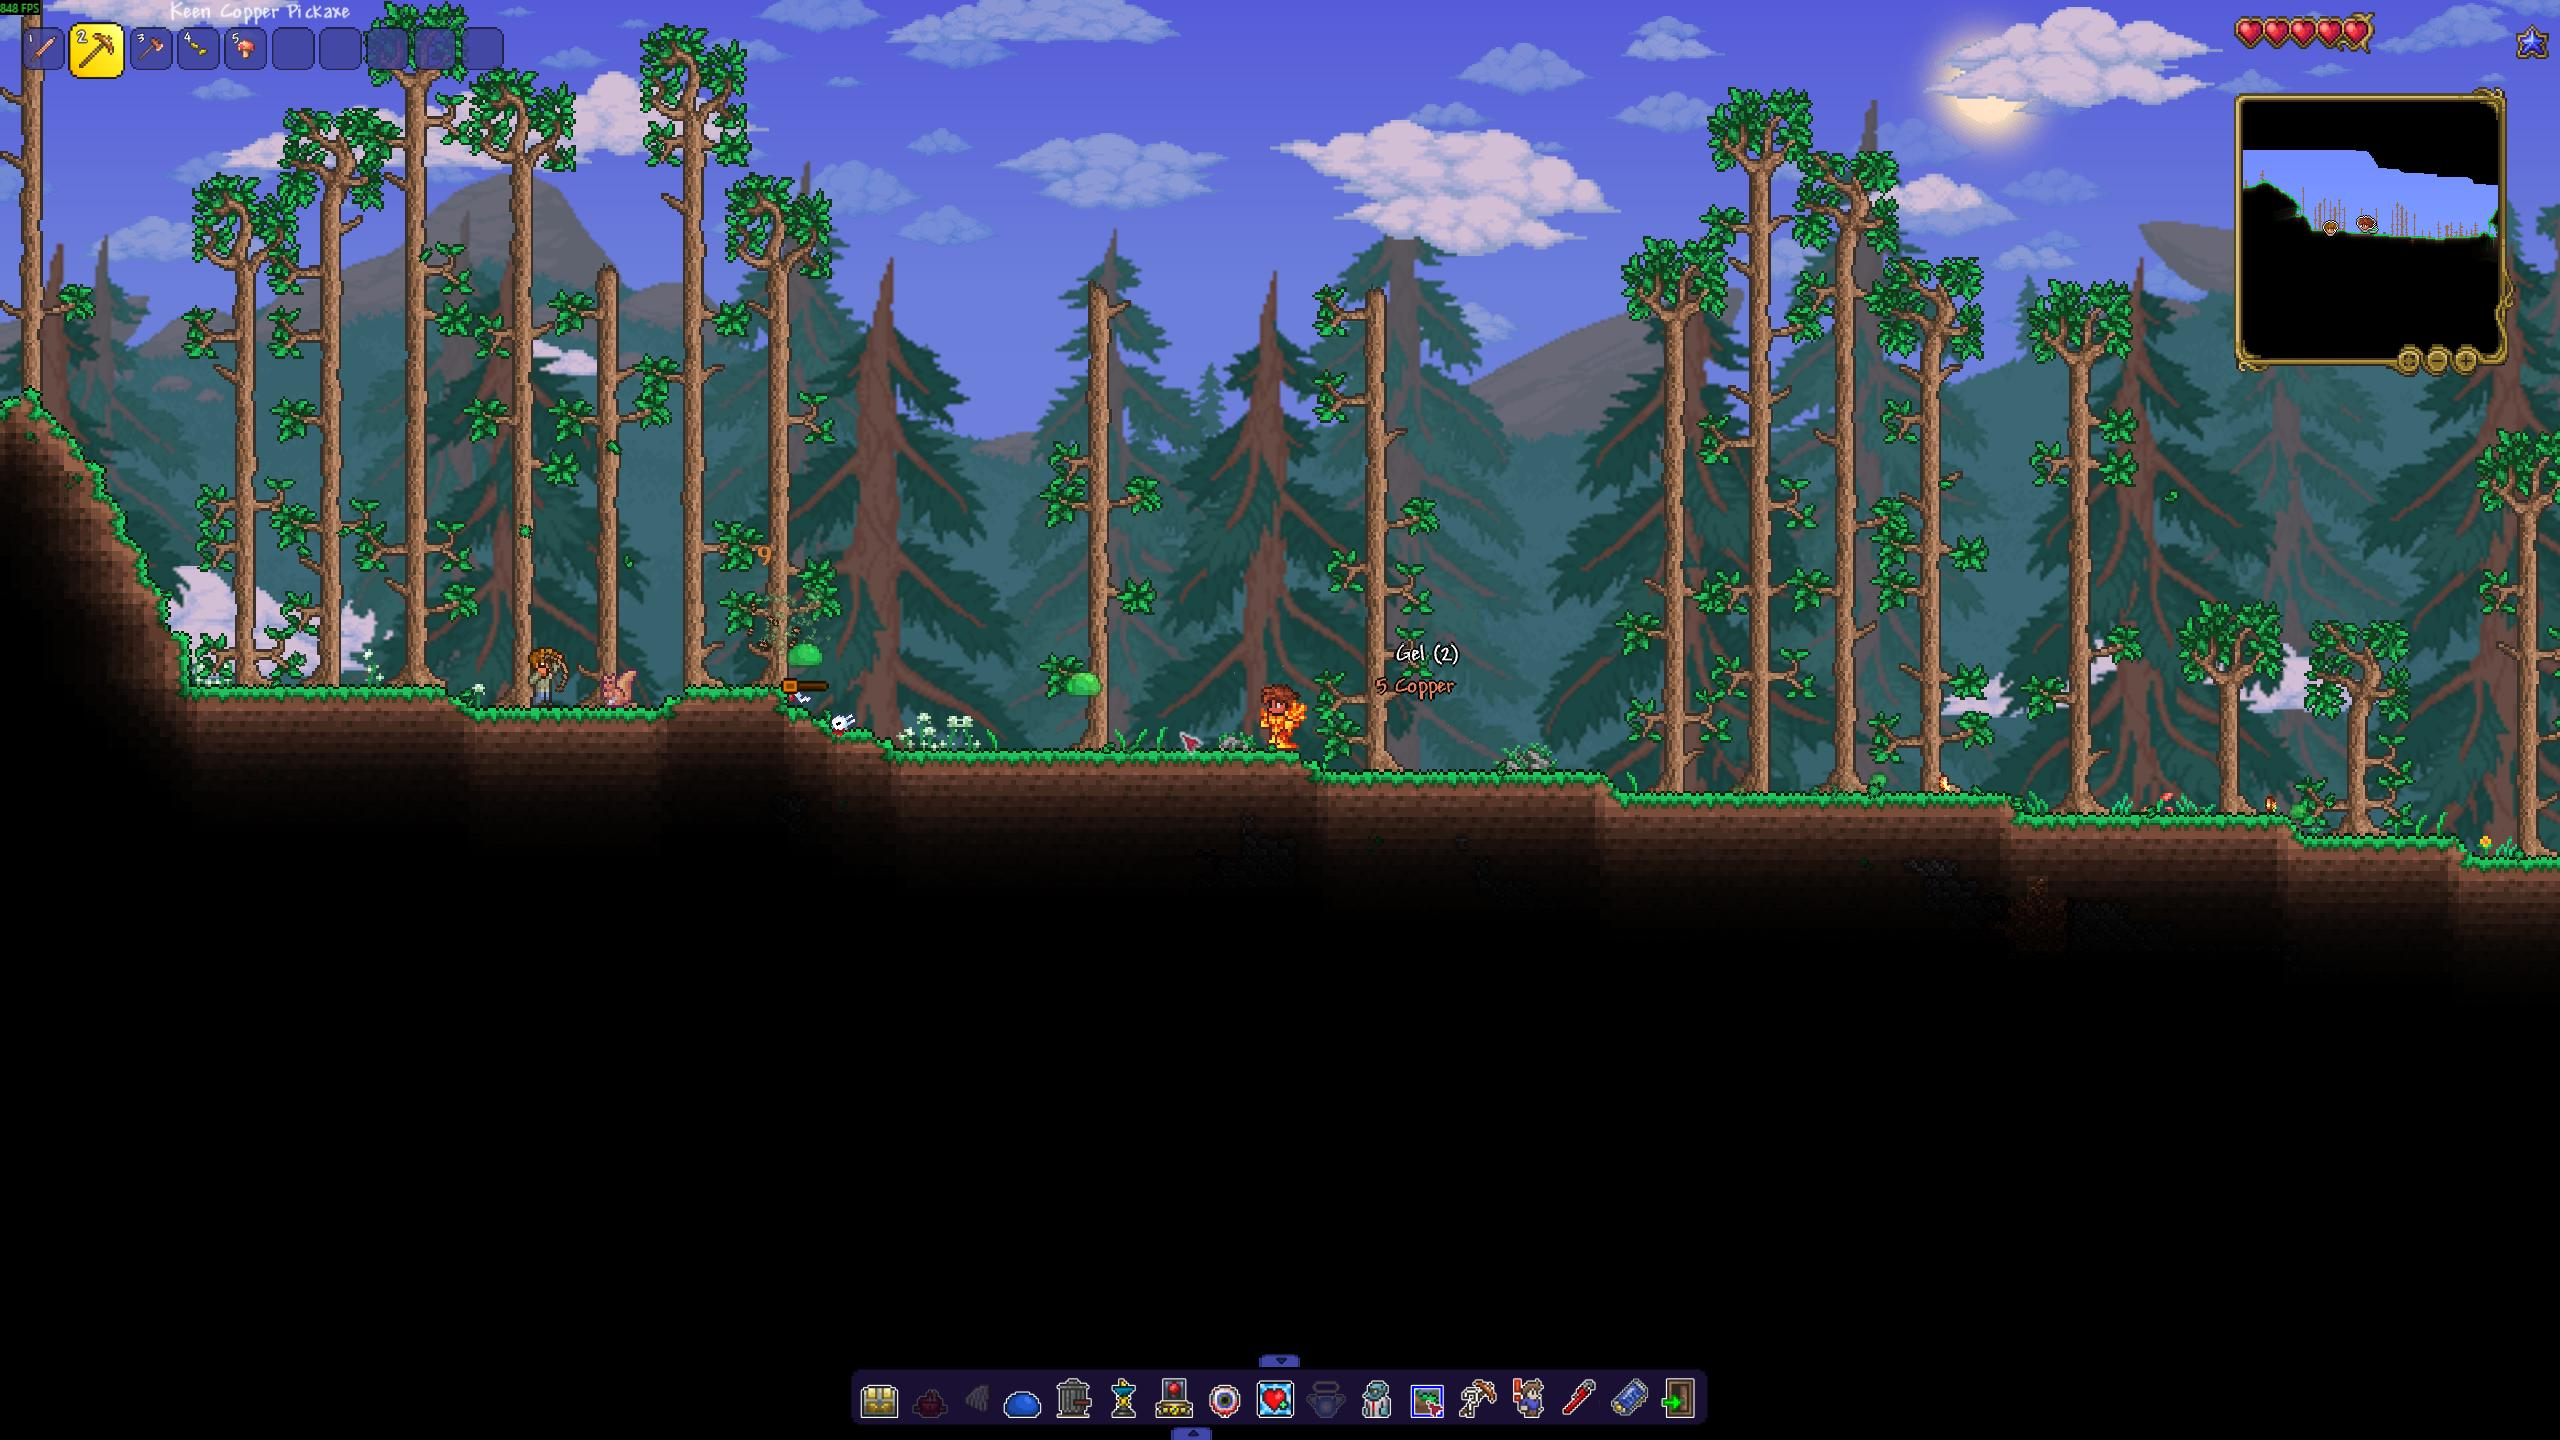Green Slime: (784, 635, 826, 668), (1062, 668, 1104, 698)
